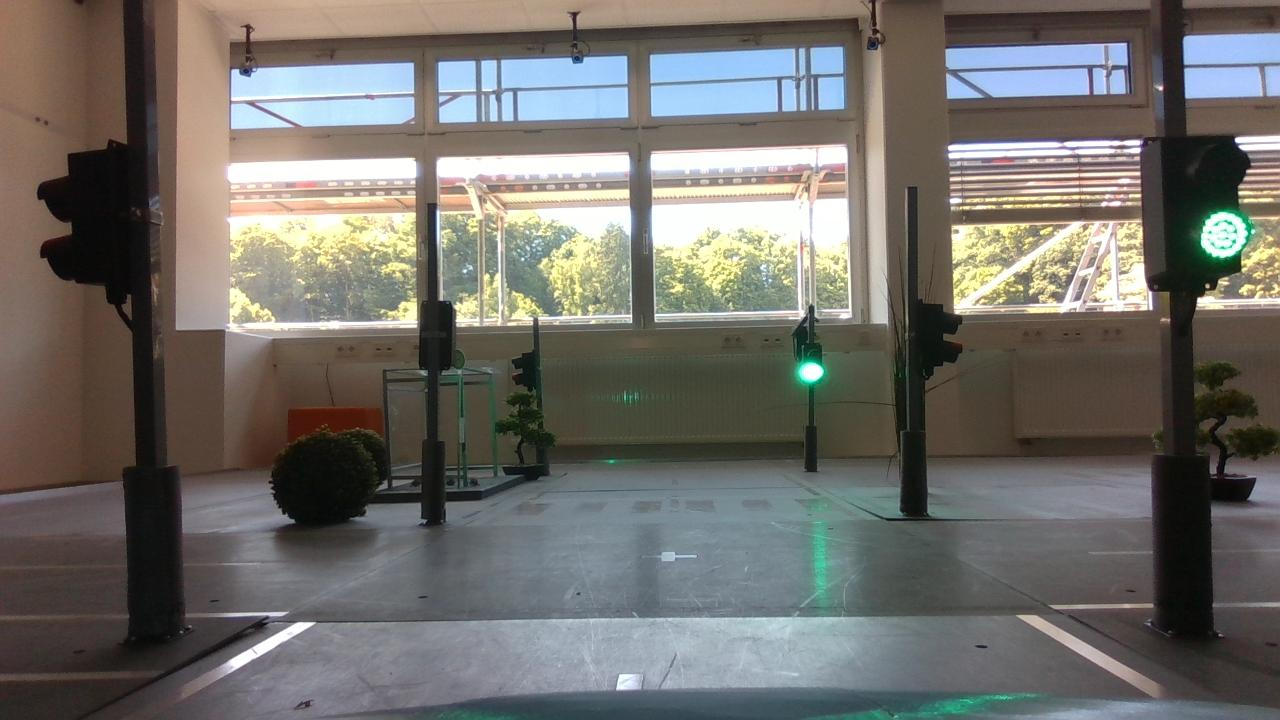traffic_light_green: (1125, 127, 1273, 305)
